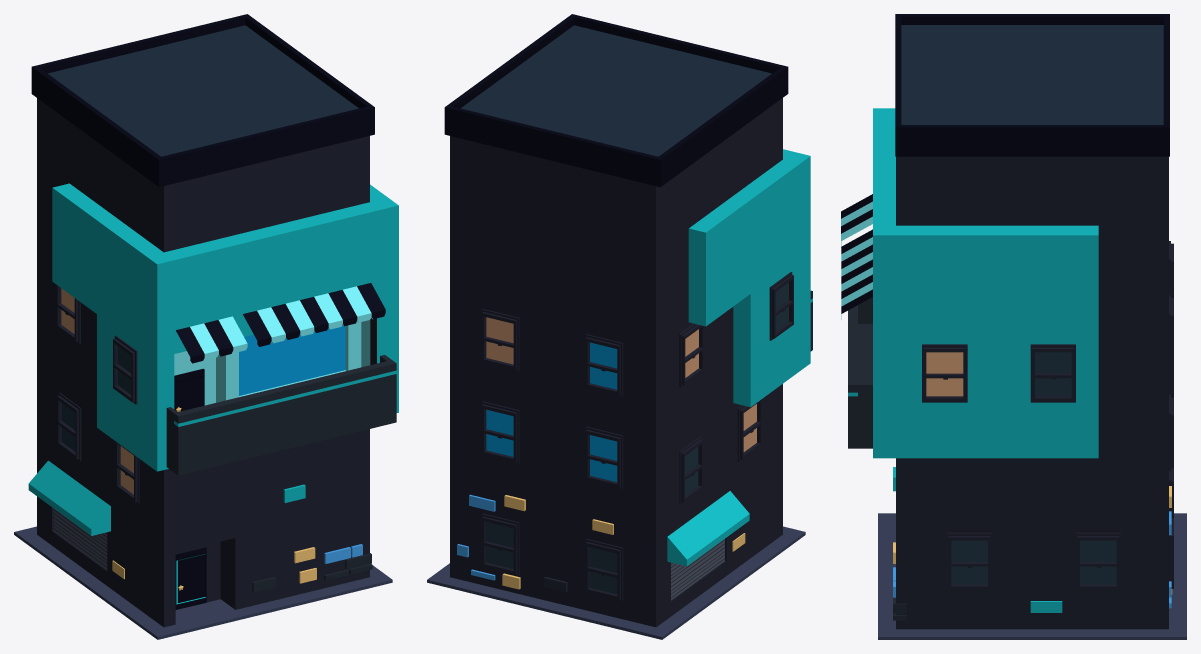
File: Building_ScramblyBox03.fbx
3 views of the same model, side by side, from view 1: azimuth 30°, elevation 25°; view 2: azimuth 150°, elevation 25°; view 3: azimuth 270°, elevation 25° (orthographic). The views are drawn at different scales.
Parts seen in each view (by area): view 1: Cube.810, Cube.811, Cube.812; view 2: Cube.810; view 3: Cube.810.
Boxes of the visible parts, x1=… form: Cube.810: x1=14, y1=14, x2=398, y2=639; Cube.811: x1=175, y1=547, x2=206, y2=609; Cube.812: x1=174, y1=368, x2=204, y2=411; Cube.810: x1=427, y1=14, x2=812, y2=639; Cube.810: x1=841, y1=14, x2=1186, y2=639.
Bounding box in the file's own units: 671 × 1211 × 747.
